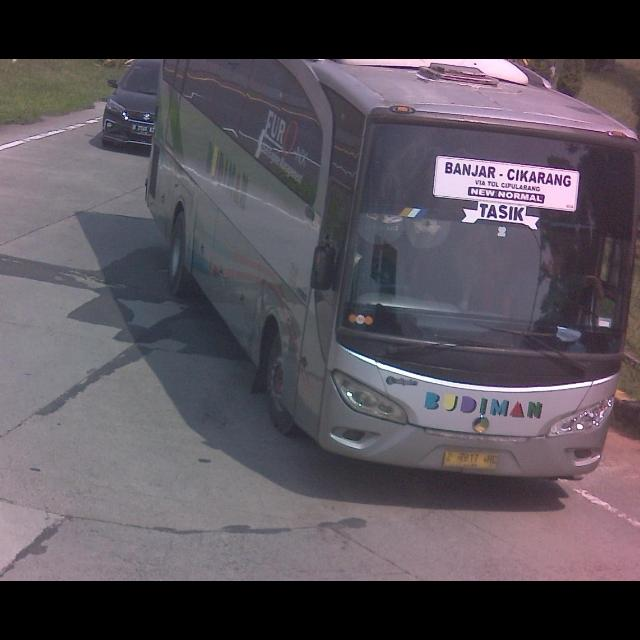plate: (442, 449, 500, 473)
